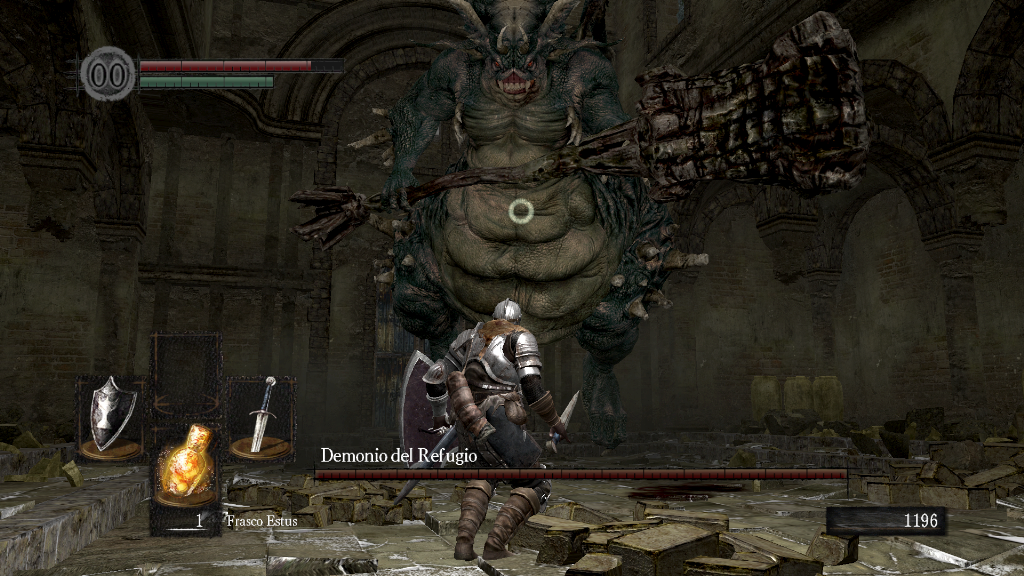asylumDemon: (287, 3, 869, 448)
bossHP: (314, 469, 847, 479)
health: (138, 58, 343, 71)
humanity: (80, 45, 136, 102)
player: (394, 297, 583, 562)
souls: (825, 506, 945, 536)
stamina: (138, 74, 274, 88)
